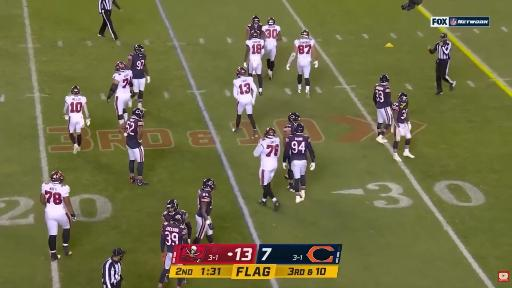Helmet: (171, 211, 185, 225), (50, 171, 64, 183), (203, 178, 215, 191), (166, 200, 178, 213), (132, 108, 144, 119), (398, 92, 408, 104), (134, 44, 144, 55), (288, 113, 300, 122), (265, 127, 275, 137), (294, 123, 304, 133), (251, 15, 260, 26), (237, 67, 246, 77), (116, 62, 126, 71), (249, 30, 259, 39), (71, 86, 80, 95), (380, 75, 389, 83), (301, 30, 309, 38), (268, 18, 275, 25)
Jersey: (283, 134, 314, 162), (42, 183, 69, 214), (254, 137, 280, 169), (162, 223, 187, 252), (234, 77, 256, 102), (126, 117, 143, 149), (113, 70, 132, 95), (374, 83, 392, 108), (128, 54, 146, 79), (65, 96, 86, 117), (197, 188, 212, 217), (295, 39, 314, 61), (262, 25, 281, 46), (246, 39, 264, 60), (392, 102, 408, 123), (247, 24, 262, 34), (283, 123, 294, 136), (162, 211, 173, 221)
Player: (40, 172, 76, 261), (283, 123, 315, 202), (254, 127, 280, 211), (158, 212, 187, 287), (120, 108, 147, 185), (287, 30, 318, 97), (64, 86, 90, 154), (232, 68, 256, 138), (107, 62, 132, 123), (392, 93, 414, 161), (127, 44, 150, 109), (193, 178, 215, 243), (244, 31, 264, 95), (374, 75, 392, 143), (163, 200, 191, 243), (263, 18, 281, 79), (283, 113, 300, 143), (246, 15, 263, 39)
